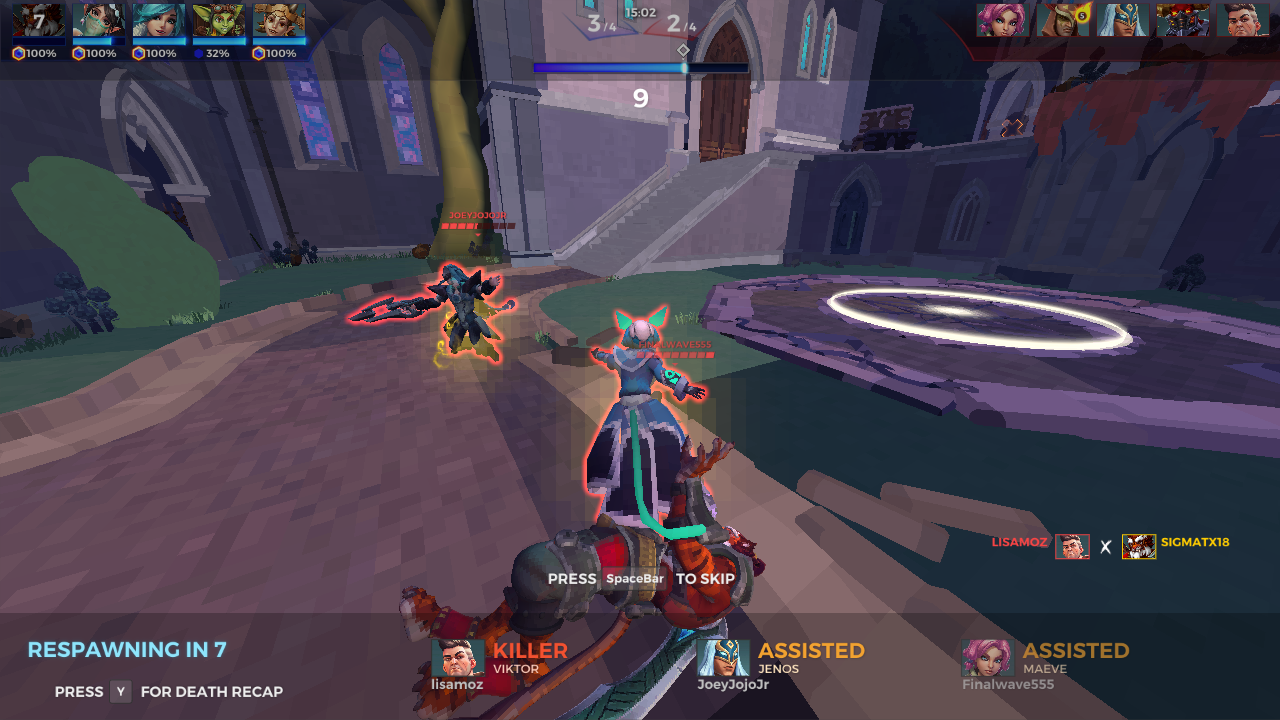model: (579, 305, 716, 540), (342, 257, 515, 366)
